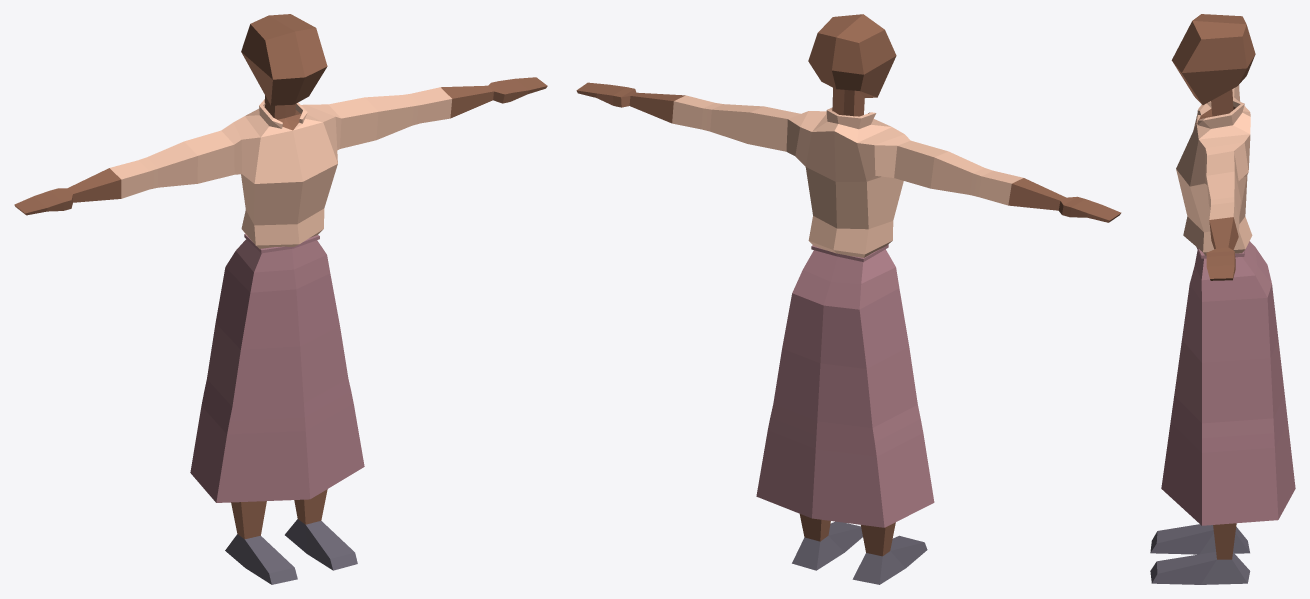
File: NPC 1.fbx
The picture shows the model from 3 angles, left to right: view 1: azimuth 30°, elevation 25°; view 2: azimuth 150°, elevation 25°; view 3: azimuth 270°, elevation 25°; orthographic projection. The views are drawn at different scales.
Visible parts, largest first — view 1: npc 1; view 2: npc 1; view 3: npc 1.
Part boxes in pixels (x1,y1,x2,y2): npc 1: [14, 14, 547, 584]; npc 1: [576, 14, 1121, 584]; npc 1: [1150, 14, 1295, 584].
Bounding box in the file's own units: 972 × 939 × 228.
